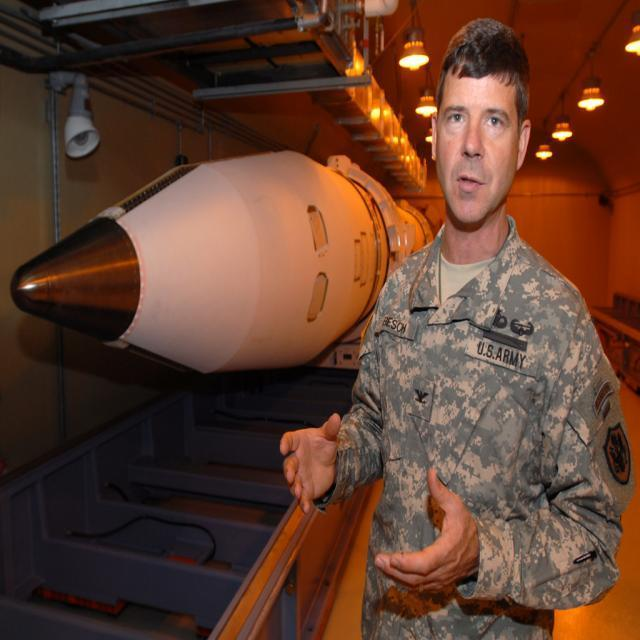Missile: (6, 144, 444, 370)
